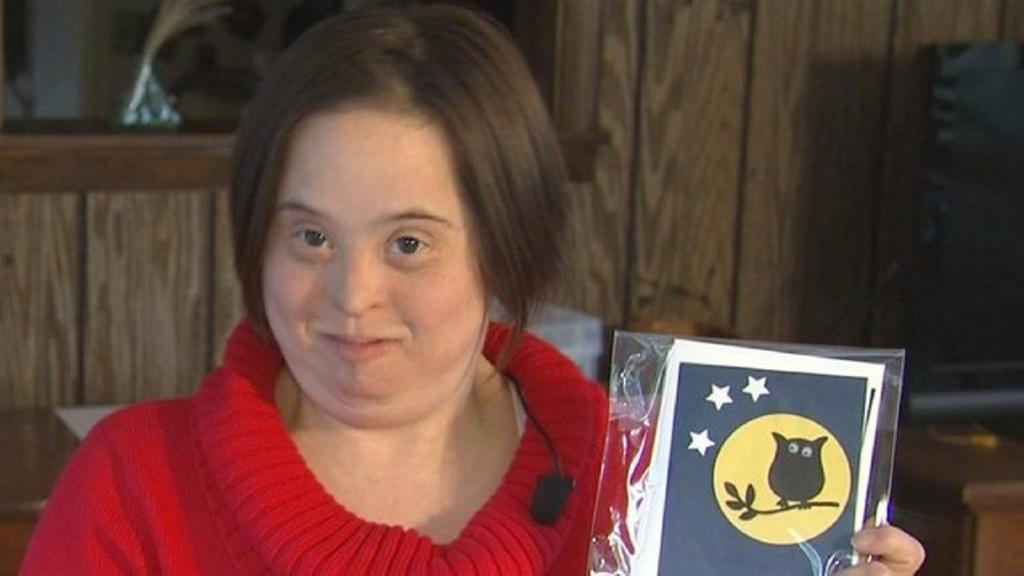face: (252, 110, 482, 426)
